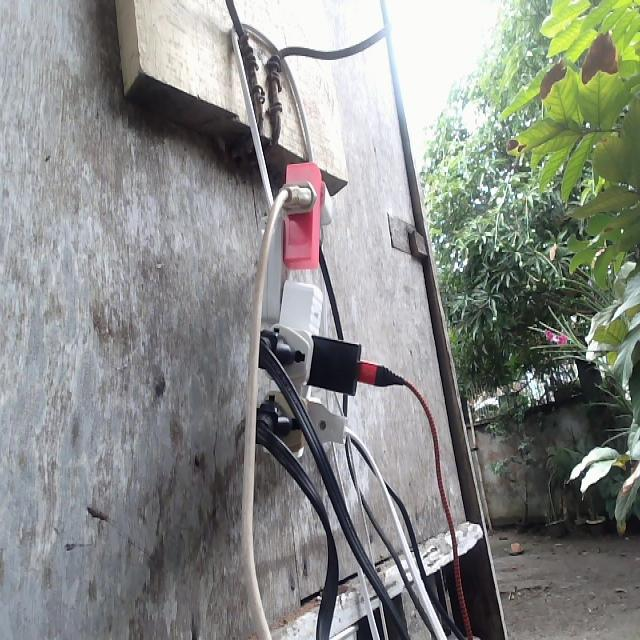-: (245, 157, 370, 463)
